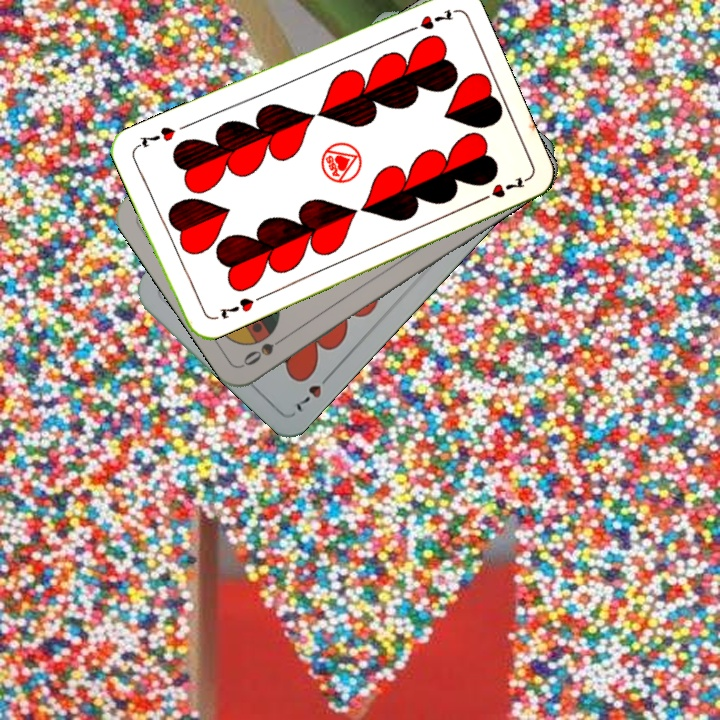H7: (291, 368, 335, 415), (400, 5, 456, 36), (216, 293, 257, 322)
SO: (239, 330, 292, 369)
